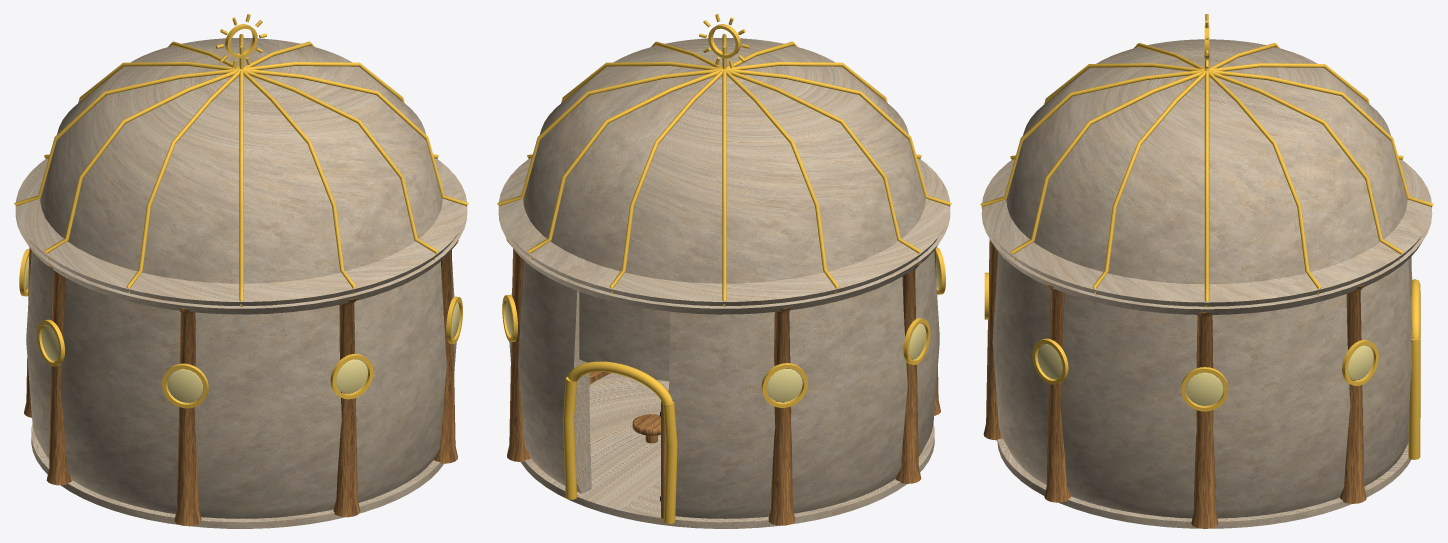
Rendered from 04_Archivo_Rotonda.obj.
The picture shows the model from 3 angles, left to right: view 1: azimuth 30°, elevation 25°; view 2: azimuth 150°, elevation 25°; view 3: azimuth 270°, elevation 25°; orthographic projection.
Visible parts, largest first — view 1: Cubierta_desmontable, Cuerpo_abombado_con_interior, Pilares_y_oculos, Suelo, Remate_elemental; view 2: Cubierta_desmontable, Cuerpo_abombado_con_interior, Suelo, Pilares_y_oculos, Dintel_curvo, Entrada_arqueada, Remate_elemental, Mobiliario_interior; view 3: Cubierta_desmontable, Cuerpo_abombado_con_interior, Pilares_y_oculos, Suelo, Entrada_arqueada.
Boxes of the visible parts, bbox=[...] form: Cubierta_desmontable: bbox=[14, 34, 468, 314]; Cuerpo_abombado_con_interior: bbox=[26, 251, 456, 518]; Pilares_y_oculos: bbox=[19, 240, 462, 526]; Suelo: bbox=[31, 424, 443, 528]; Remate_elemental: bbox=[216, 14, 266, 69]; Cubierta_desmontable: bbox=[497, 34, 951, 314]; Cuerpo_abombado_con_interior: bbox=[509, 251, 939, 518]; Suelo: bbox=[521, 373, 934, 528]; Pilares_y_oculos: bbox=[502, 238, 945, 525]; Dintel_curvo: bbox=[579, 291, 670, 381]; Entrada_arqueada: bbox=[562, 361, 677, 523]; Remate_elemental: bbox=[699, 14, 749, 69]; Mobiliario_interior: bbox=[632, 414, 660, 443]; Cubierta_desmontable: bbox=[980, 39, 1433, 314]; Cuerpo_abombado_con_interior: bbox=[992, 252, 1412, 518]; Pilares_y_oculos: bbox=[983, 239, 1378, 528]; Suelo: bbox=[997, 438, 1411, 528]; Entrada_arqueada: bbox=[1408, 279, 1420, 459].
Bounding box in the file's own units: 7.31 × 7.52 × 7.31.
